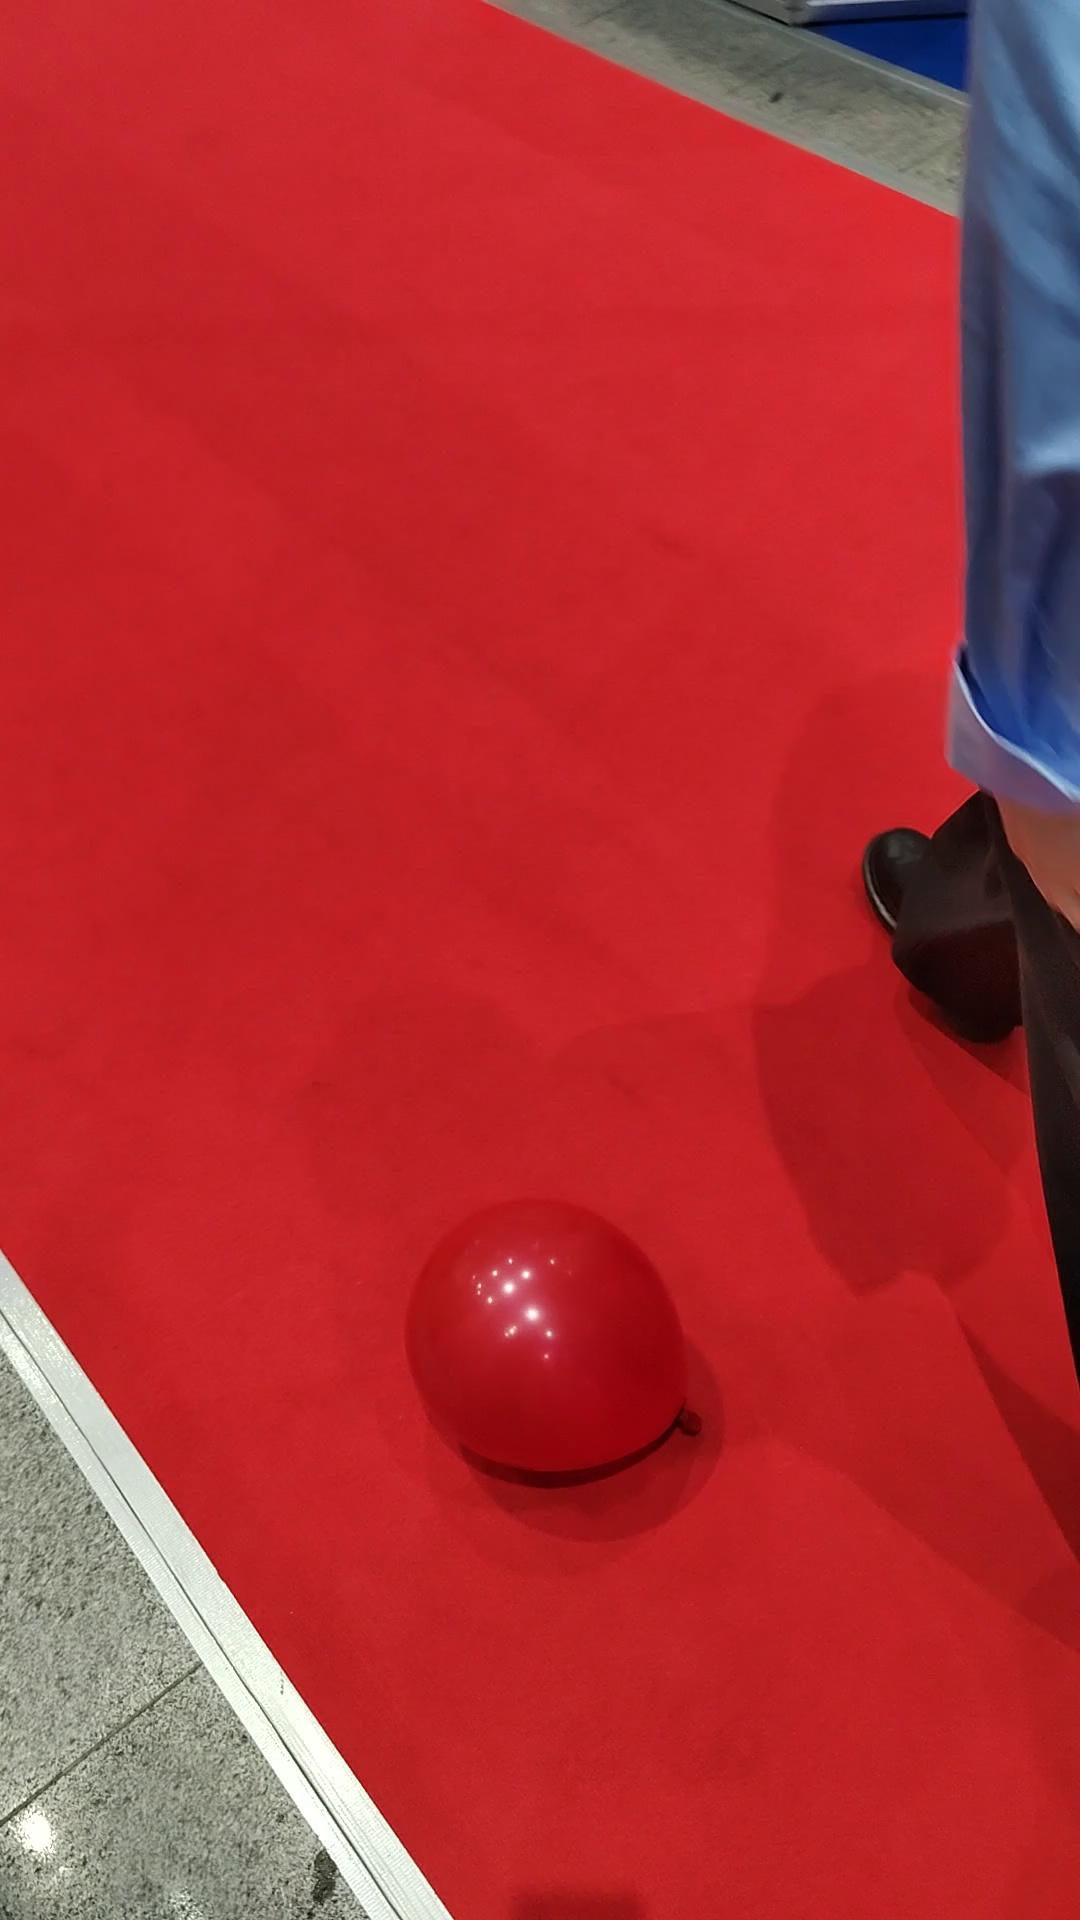red: (404, 1200, 691, 1482)
